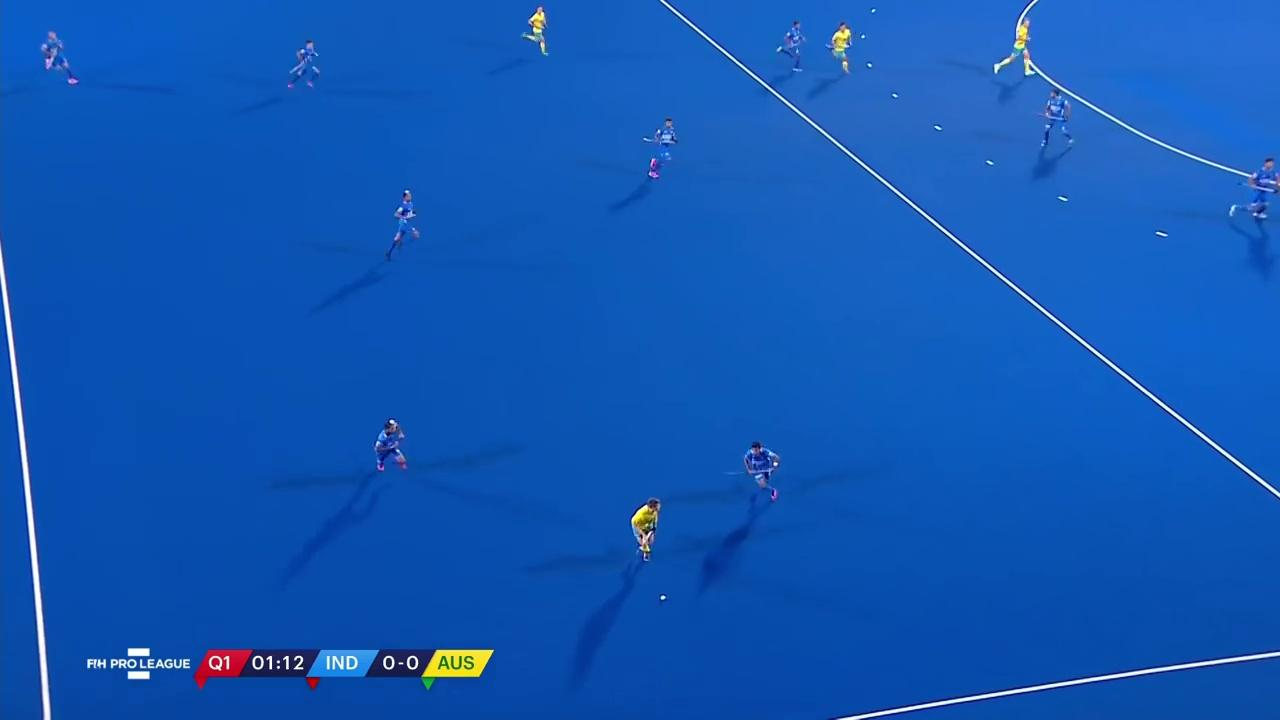ball: (653, 586, 675, 605)
